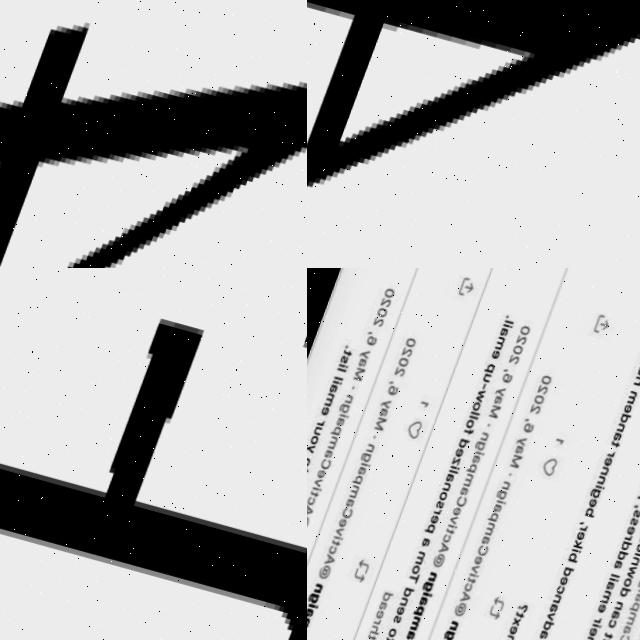0: (520, 325, 533, 336), (406, 337, 419, 348), (377, 307, 390, 318), (542, 374, 555, 384), (514, 344, 527, 354), (399, 356, 412, 366), (384, 288, 397, 298), (536, 394, 548, 404)
1: (558, 437, 568, 445), (422, 400, 432, 408)
2: (395, 366, 408, 377), (373, 316, 385, 327), (532, 404, 545, 414), (510, 354, 523, 364), (517, 334, 530, 344), (380, 298, 393, 308), (539, 384, 551, 394), (403, 346, 415, 356)
6: (503, 372, 515, 384), (367, 335, 379, 346), (526, 422, 538, 432), (389, 385, 401, 395)
A: (307, 0, 640, 268)
E: (0, 318, 307, 640)
